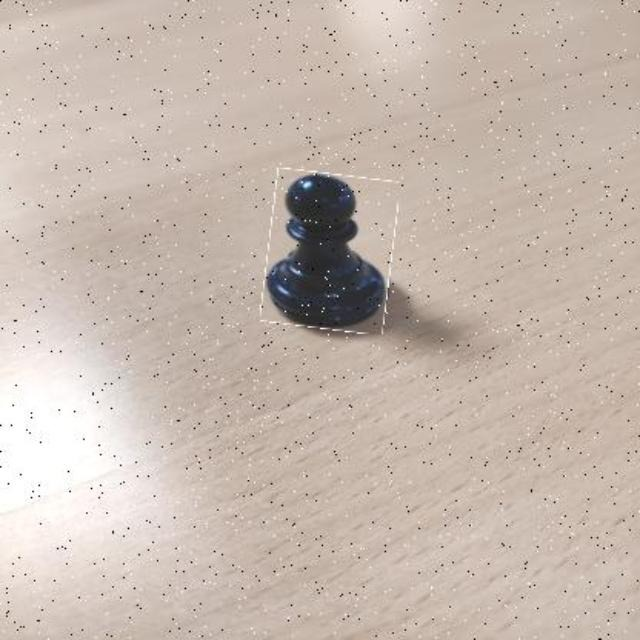black-pawn: (265, 171, 397, 332)
